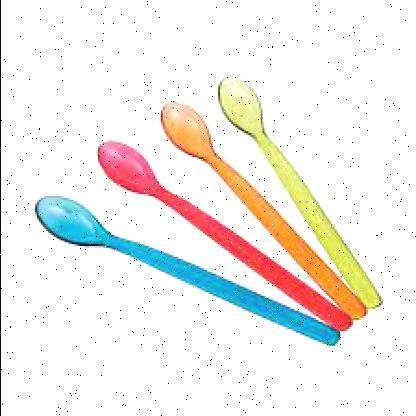Others: (37, 74, 385, 350)
